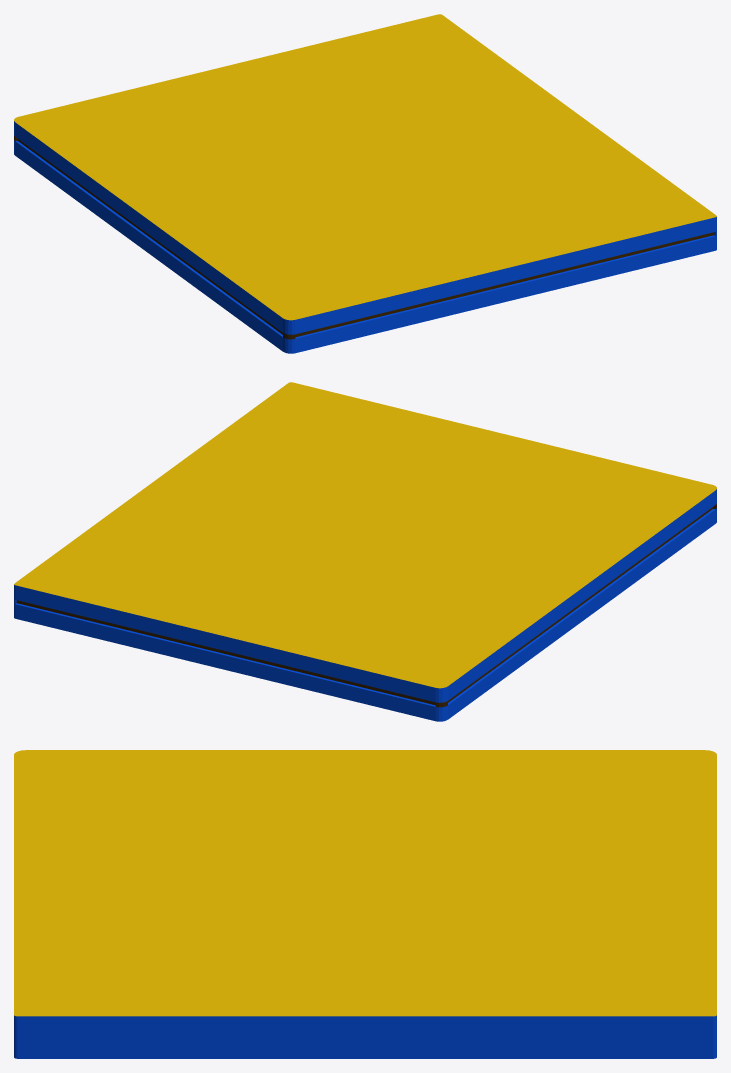
The model's file is laptop.fbx.
The picture shows the model from 3 angles, top to bottom: view 1: azimuth 30°, elevation 25°; view 2: azimuth 150°, elevation 25°; view 3: azimuth 270°, elevation 25°; orthographic projection. The views are drawn at different scales.
Visible parts, largest first — view 1: Cube.001; view 2: Cube.001; view 3: Cube.001.
Part boxes in pixels (x1,y1,x2,y2): Cube.001: [14, 14, 716, 353]; Cube.001: [14, 382, 716, 721]; Cube.001: [14, 750, 716, 1058].
Size of the model in its own units: 108 by 8.05 by 121.
